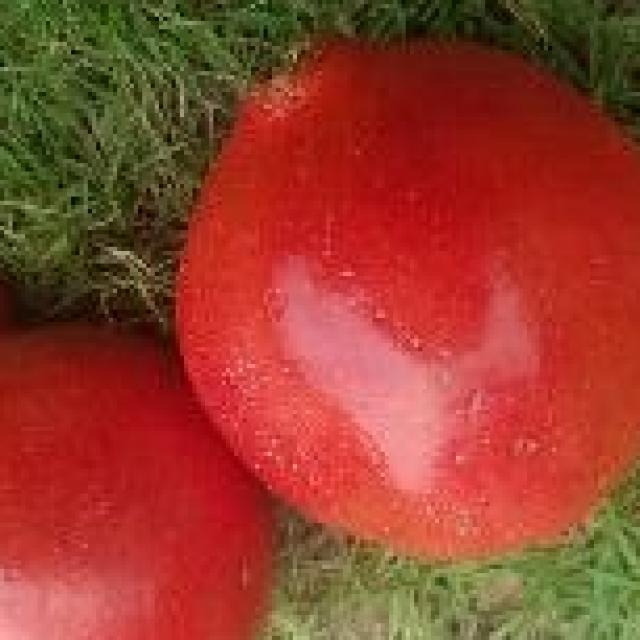Good_Pomegranate-50-60-days: (0, 38, 640, 640)
